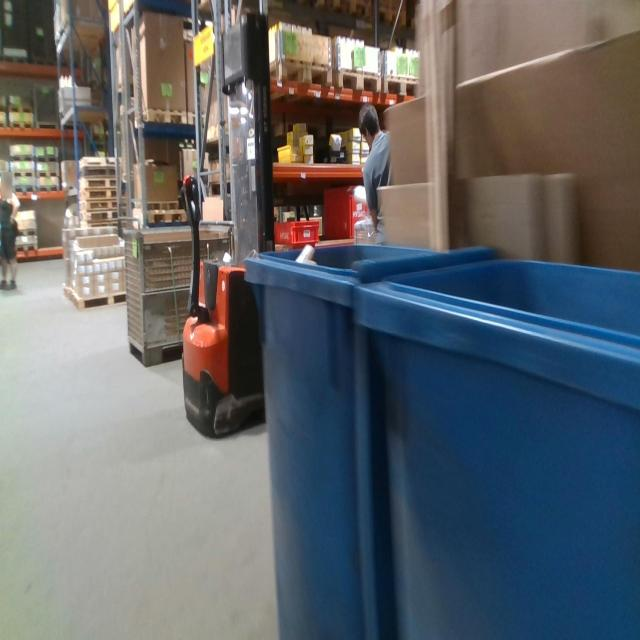pallet: (268, 57, 334, 89), (133, 106, 189, 133), (74, 288, 127, 313), (336, 65, 382, 93), (382, 73, 419, 97), (145, 206, 190, 223), (80, 198, 118, 212), (77, 164, 117, 176), (143, 199, 180, 210), (82, 187, 118, 198), (82, 176, 117, 187), (80, 212, 118, 222), (35, 169, 60, 180), (14, 227, 37, 238), (187, 114, 211, 124), (12, 184, 36, 194), (3, 54, 27, 64), (16, 243, 38, 253), (34, 56, 56, 66), (35, 155, 59, 164), (11, 169, 35, 178), (10, 154, 34, 163), (37, 184, 60, 193), (8, 105, 33, 113), (9, 121, 34, 129)
pallet_truck: (176, 8, 276, 440)
small_load_carrier: (322, 182, 372, 241), (271, 215, 321, 248)
stillage: (126, 221, 232, 368), (33, 81, 59, 128)
